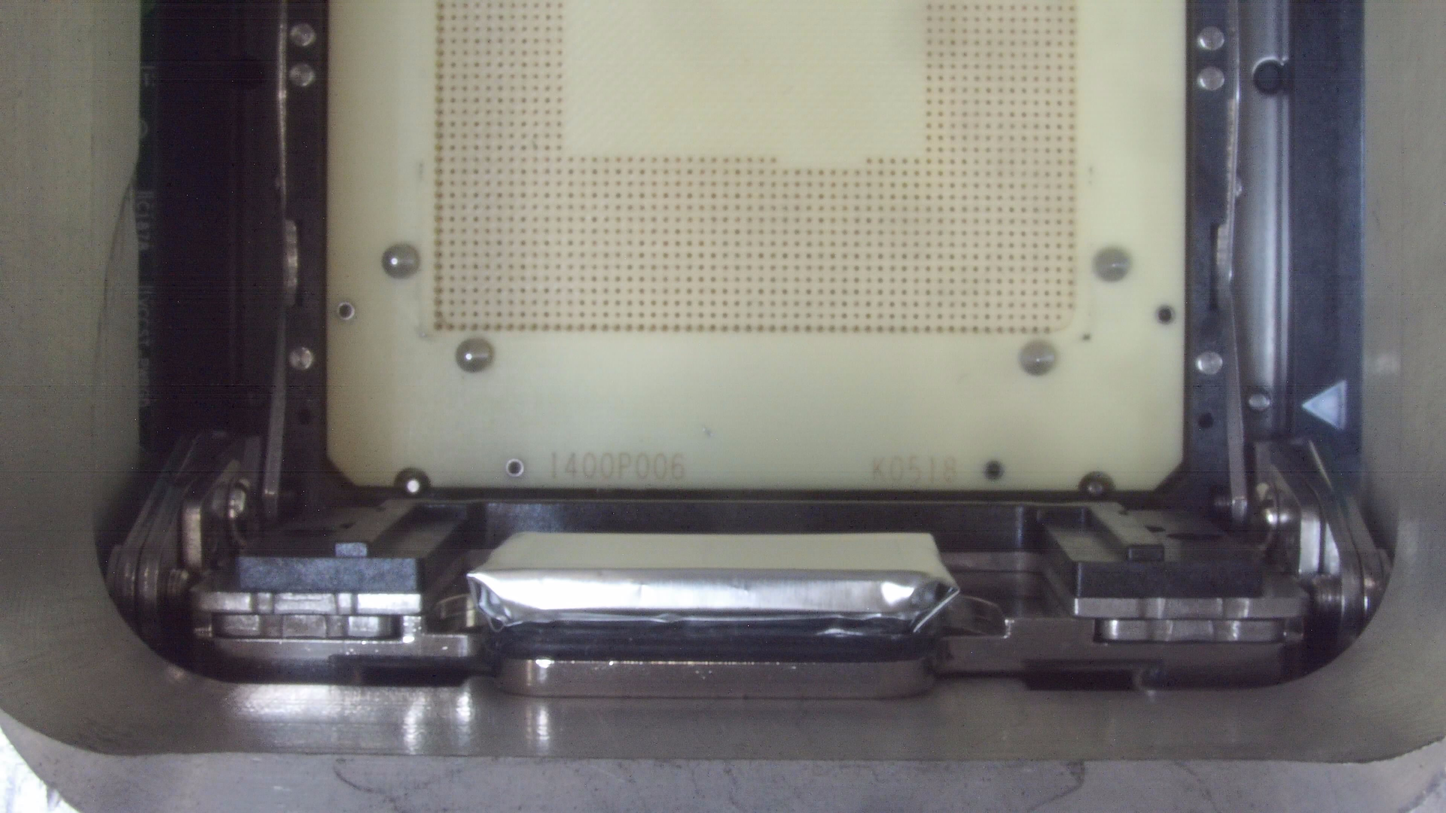normal: (454, 523, 973, 660), (436, 579, 451, 587)
